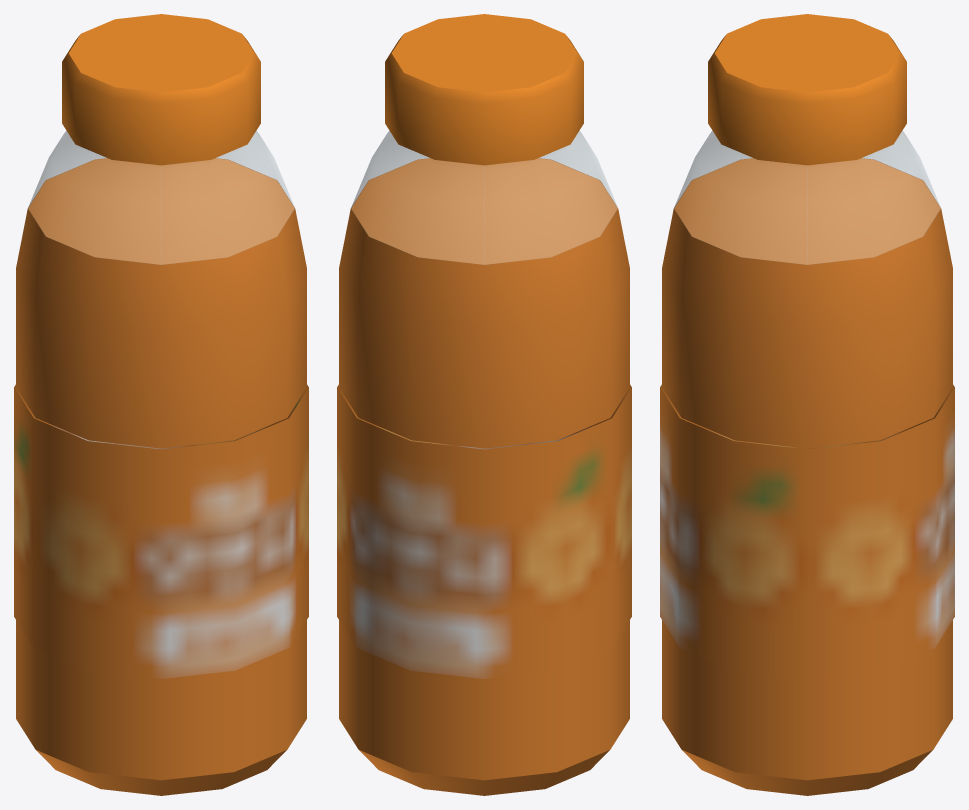
File: SC_Prod_Juice_Bottle.gltf
The picture shows the model from 3 angles, left to right: view 1: azimuth 30°, elevation 25°; view 2: azimuth 150°, elevation 25°; view 3: azimuth 270°, elevation 25°; orthographic projection.
Visible parts, largest first — view 1: SC_Prod_Juice_Bottle; view 2: SC_Prod_Juice_Bottle; view 3: SC_Prod_Juice_Bottle.
Boxes of the visible parts, left/top/right/bottom form: SC_Prod_Juice_Bottle: left=14, top=14, right=308, bottom=795; SC_Prod_Juice_Bottle: left=337, top=14, right=631, bottom=795; SC_Prod_Juice_Bottle: left=660, top=14, right=954, bottom=795.
Bounding box in the file's own units: 0.0628 × 0.1625 × 0.0628.
3 materials, 3 textured.
